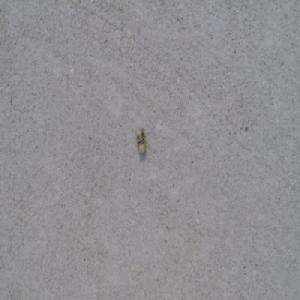BoltNutSet: (134, 127, 145, 154)
